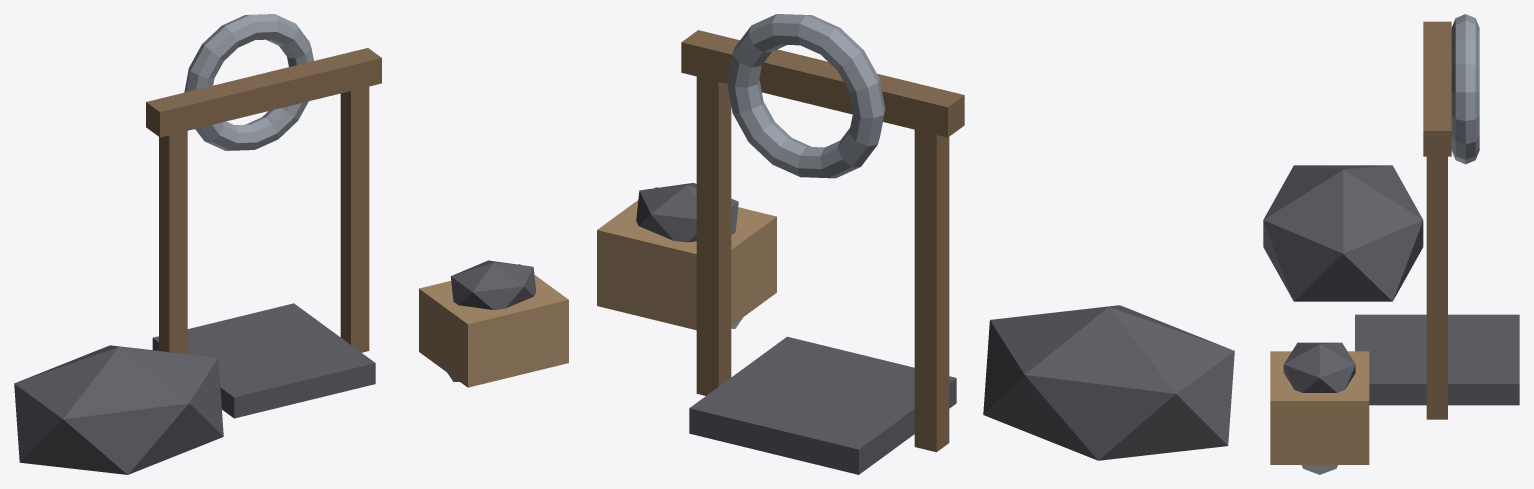
File: coal_mine.glb
3 renders of one model, left to right at view 1: azimuth 30°, elevation 25°; view 2: azimuth 150°, elevation 25°; view 3: azimuth 270°, elevation 25°, orthographic. The views are drawn at different scales.
Parts seen in each view (by area): view 1: CoalMineLegL; view 2: CoalMineLegL; view 3: CoalMineLegL.
Part boxes in pixels (<box>): CoalMineLegL: <box>14,14,568,474</box>; CoalMineLegL: <box>597,14,1234,474</box>; CoalMineLegL: <box>1263,14,1519,474</box>.
Size of the model in its own units: 2.54 by 1.74 by 1.09.
